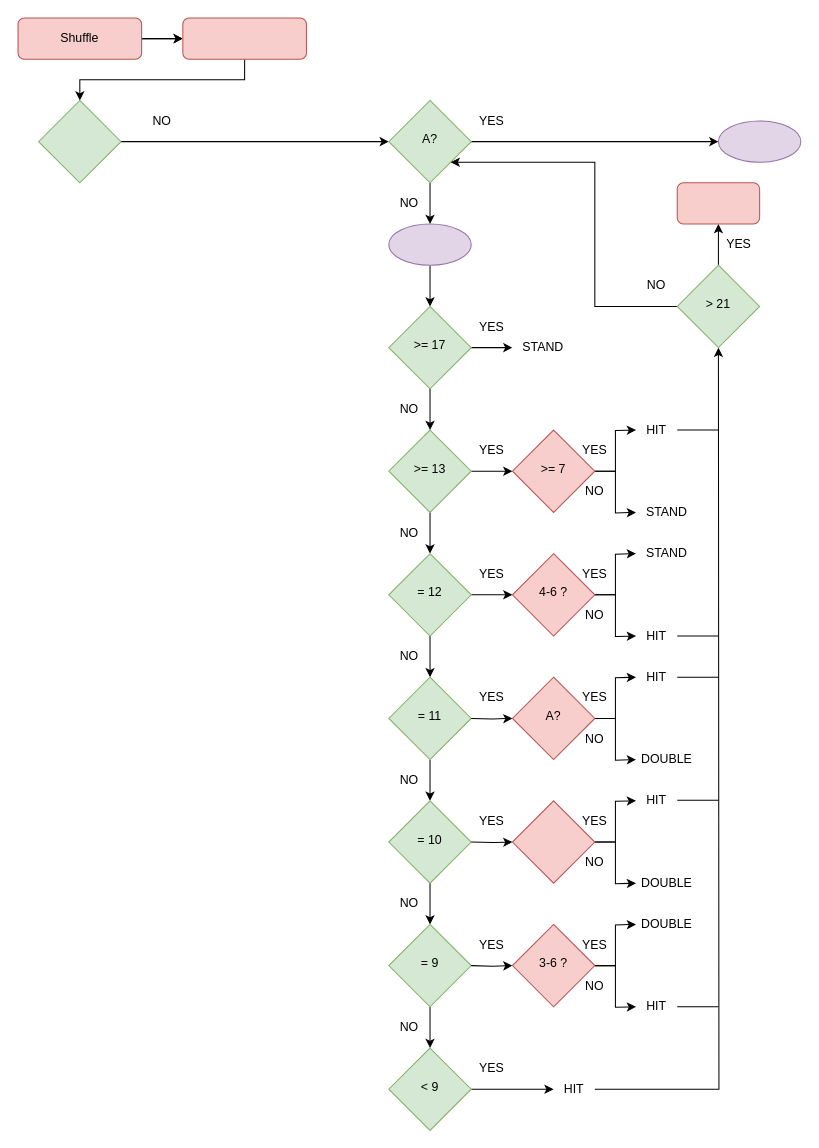
This 819x1148 diagram has some shape labels left out. The shapes that lost their labels are listed below. From the top down, each one's box as (x1, y1, x2, y2) in pixels, then its label:
(182, 17, 306, 59): Deal
(38, 99, 121, 183): Same Cards?
(717, 120, 801, 162): SOFT TOTAL
(676, 182, 760, 224): HOUSE WINS
(388, 223, 471, 265): HARD TOTAL
(511, 800, 595, 883): 10-A ?
